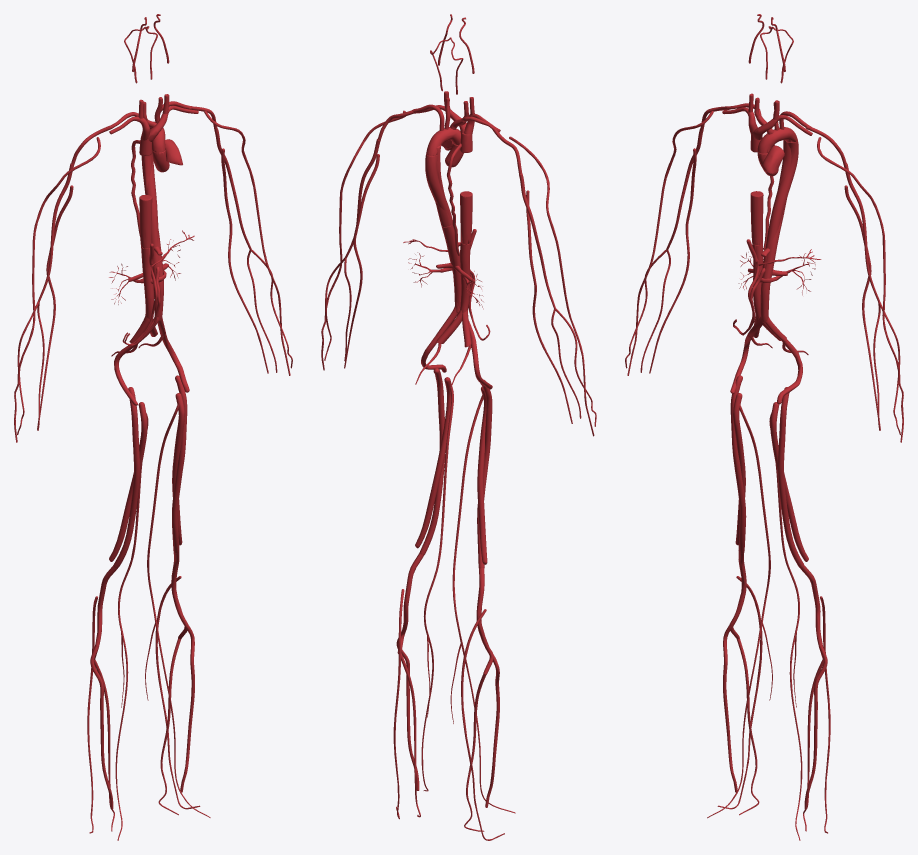
Rendered from vessels.glb.
3 renders of one model, left to right at view 1: azimuth 30°, elevation 25°; view 2: azimuth 150°, elevation 25°; view 3: azimuth 330°, elevation 25°, orthographic.
Visible parts, largest first — view 1: aorta, inferior-vena-cava, great-saphenous-vein-l, femoral-artery-r, great-saphenous-vein-r, femoral-artery-l, cephalic-vein-r, femoral-vein-r, cephalic-vein-l, femoral-vein-l, basilic-vein-l, anterior-tibial-artery-l (+5 smaller); view 2: aorta, great-saphenous-vein-r, inferior-vena-cava, great-saphenous-vein-l, femoral-vein-l, femoral-artery-l, femoral-vein-r, cephalic-vein-r, femoral-artery-r, cephalic-vein-l, basilic-vein-r, small-saphenous-vein-r (+6 smaller); view 3: aorta, great-saphenous-vein-r, femoral-artery-l, inferior-vena-cava, great-saphenous-vein-l, femoral-artery-r, cephalic-vein-l, femoral-vein-l, cephalic-vein-r, femoral-vein-r, basilic-vein-r, anterior-tibial-artery-r (+5 smaller).
Boxes of the visible parts, left/top/right/bottom form: aorta: left=141, top=121, right=169, bottom=321; inferior-vena-cava: left=139, top=195, right=153, bottom=319; great-saphenous-vein-l: left=145, top=404, right=210, bottom=817; femoral-artery-r: left=113, top=387, right=139, bottom=567; great-saphenous-vein-r: left=115, top=413, right=148, bottom=840; femoral-artery-l: left=172, top=375, right=187, bottom=553; cephalic-vein-r: left=14, top=137, right=100, bottom=442; femoral-vein-r: left=109, top=402, right=147, bottom=561; cephalic-vein-l: left=204, top=111, right=290, bottom=375; femoral-vein-l: left=172, top=393, right=184, bottom=545; basilic-vein-l: left=221, top=148, right=268, bottom=373; anterior-tibial-artery-l: left=180, top=624, right=194, bottom=792; aorta: left=425, top=127, right=463, bottom=312; great-saphenous-vein-r: left=450, top=395, right=515, bottom=813; inferior-vena-cava: left=460, top=191, right=472, bottom=312; great-saphenous-vein-l: left=421, top=386, right=453, bottom=791; femoral-vein-l: left=415, top=377, right=451, bottom=548; femoral-artery-l: left=420, top=368, right=445, bottom=554; femoral-vein-r: left=477, top=386, right=487, bottom=564; cephalic-vein-r: left=509, top=136, right=594, bottom=436; femoral-artery-r: left=477, top=380, right=492, bottom=568; cephalic-vein-l: left=321, top=110, right=405, bottom=370; basilic-vein-r: left=526, top=190, right=572, bottom=423; small-saphenous-vein-r: left=461, top=609, right=504, bottom=840; aorta: left=757, top=127, right=798, bottom=323; great-saphenous-vein-r: left=707, top=404, right=772, bottom=818; femoral-artery-l: left=778, top=387, right=803, bottom=568; inferior-vena-cava: left=750, top=191, right=763, bottom=318; great-saphenous-vein-l: left=769, top=413, right=802, bottom=840; femoral-artery-r: left=730, top=375, right=746, bottom=553; cephalic-vein-l: left=817, top=137, right=903, bottom=442; femoral-vein-l: left=770, top=402, right=808, bottom=561; cephalic-vein-r: left=627, top=111, right=713, bottom=375; femoral-vein-r: left=733, top=393, right=745, bottom=545; basilic-vein-r: left=649, top=148, right=696, bottom=373; anterior-tibial-artery-r: left=723, top=624, right=737, bottom=792.
Size of the model in its own units: 0.5589 by 1.58 by 0.1478.
